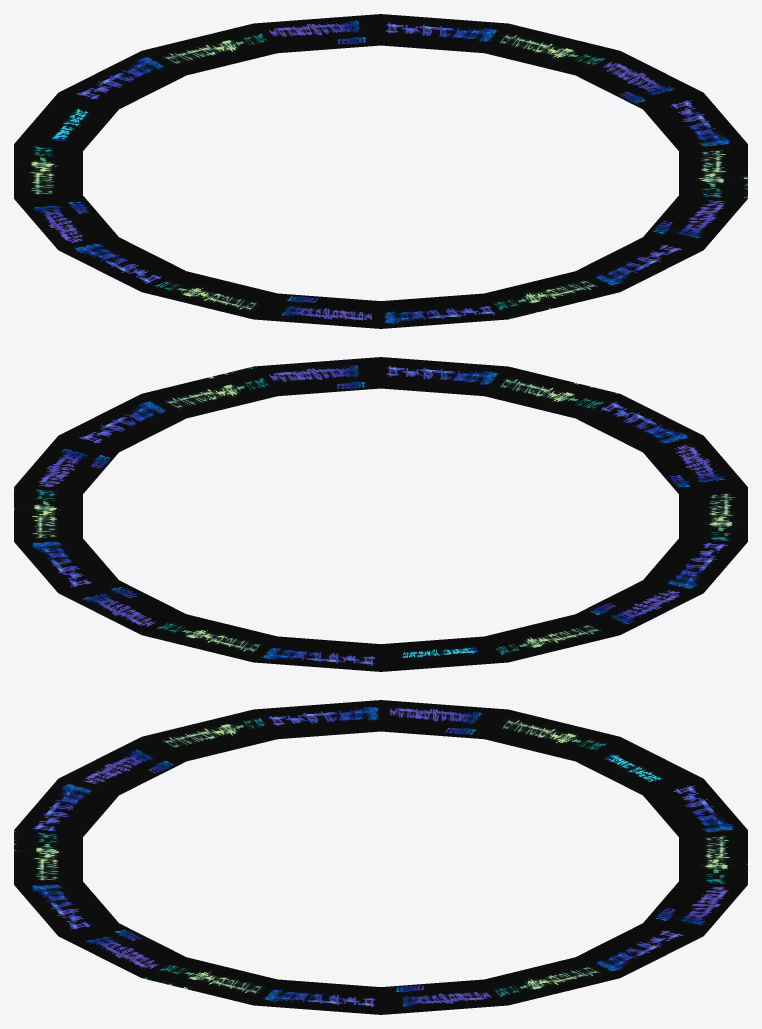
File: fazhen01.FBX
3 renders of one model, top to bottom at view 1: azimuth 30°, elevation 25°; view 2: azimuth 150°, elevation 25°; view 3: azimuth 270°, elevation 25°, orthographic.
Visible parts, largest first — view 1: fazhen01; view 2: fazhen01; view 3: fazhen01.
Part boxes in pixels (x1,y1,x2,y2): fazhen01: (14, 14, 747, 328); fazhen01: (14, 357, 747, 671); fazhen01: (14, 700, 747, 1014).
Bounding box in the file's own units: 37.12 × 0.1017 × 36.55.
